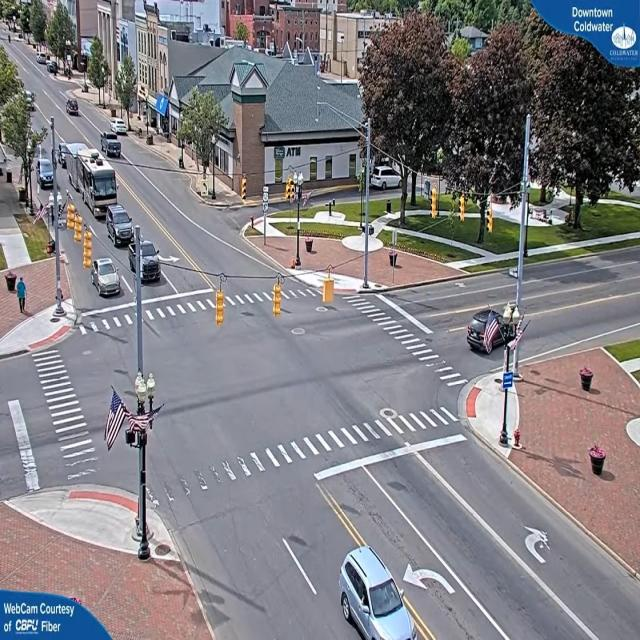car: (339, 549, 417, 640), (466, 308, 516, 356), (94, 258, 123, 298), (108, 208, 136, 247), (138, 240, 162, 284), (101, 136, 122, 159), (112, 119, 128, 137), (66, 99, 80, 116)
truck: (79, 164, 119, 218), (39, 155, 56, 188)
